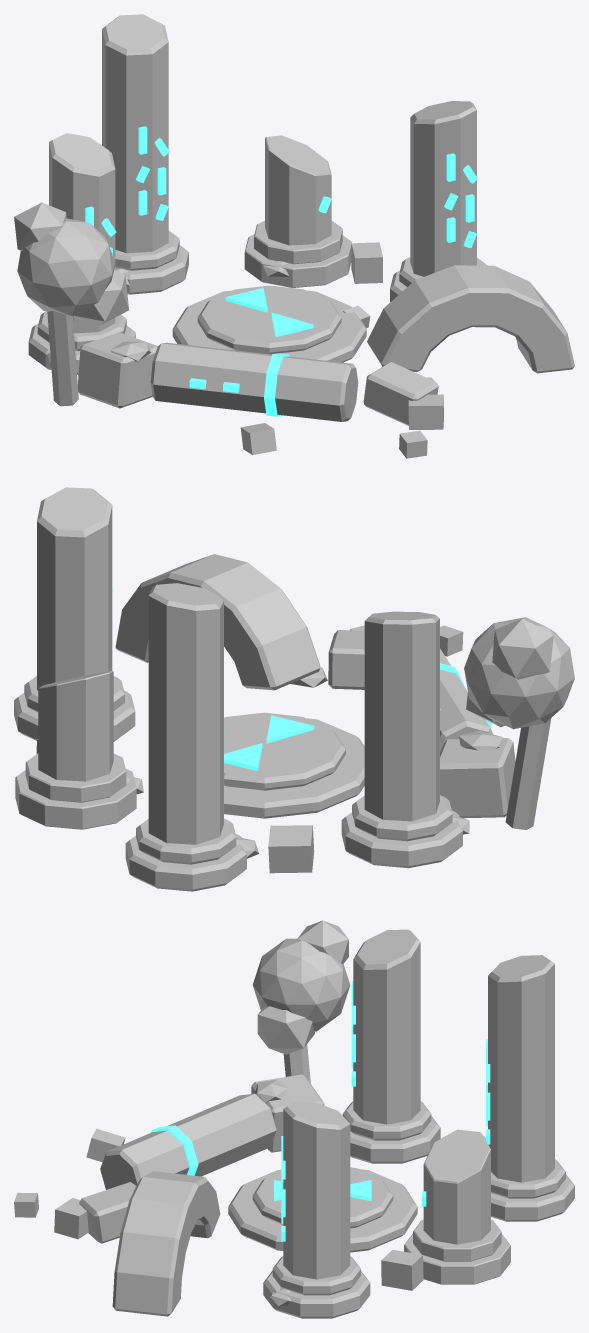
The model's file is d1_prior_ruins.gltf.
The picture shows the model from 3 angles, top to bottom: view 1: azimuth 30°, elevation 25°; view 2: azimuth 150°, elevation 25°; view 3: azimuth 270°, elevation 25°; orthographic projection. The views are drawn at different scales.
Visible parts, largest first — view 1: col_back, arch_broken, col_fallen, col_right, col_short, dais, tree_canopy, col_left, rubble, col_fallen_base, arch_fallen_block, tree_trunk (+1 smaller); view 2: col_back, col_left, col_right, col_short, dais, arch_broken, tree_canopy, col_fallen_base, tree_trunk, rubble, col_fallen, arch_fallen_block (+1 smaller); view 3: col_back, col_left, col_right, col_short, arch_broken, tree_canopy, col_fallen, dais, rubble, arch_fallen_block, col_fallen_base, moss_tufts (+1 smaller).
Boxes of the visible parts, <box> form: col_back: <box>102,14,188,294</box>; arch_broken: <box>367,265,574,373</box>; col_fallen: <box>150,342,358,421</box>; col_right: <box>390,101,487,301</box>; col_short: <box>244,135,351,287</box>; dais: <box>172,285,366,362</box>; tree_canopy: <box>14,202,128,325</box>; col_left: <box>28,133,135,374</box>; rubble: <box>240,242,443,458</box>; col_fallen_base: <box>77,332,157,408</box>; arch_fallen_block: <box>363,362,438,425</box>; tree_trunk: <box>47,311,78,406</box>; col_back: <box>125,583,246,891</box>; col_left: <box>341,611,462,868</box>; col_right: <box>14,487,135,741</box>; col_short: <box>15,670,136,829</box>; dais: <box>224,712,364,818</box>; arch_broken: <box>115,554,320,690</box>; tree_canopy: <box>464,617,574,729</box>; col_fallen_base: <box>440,738,515,818</box>; tree_trunk: <box>505,718,551,829</box>; rubble: <box>36,625,463,873</box>; col_fallen: <box>440,648,493,751</box>; arch_fallen_block: <box>328,630,364,689</box>; col_back: <box>486,955,574,1221</box>; col_left: <box>342,929,440,1163</box>; col_right: <box>263,1101,370,1318</box>; col_short: <box>404,1129,510,1284</box>; arch_broken: <box>112,1171,220,1316</box>; tree_canopy: <box>252,920,350,1054</box>; col_fallen: <box>100,1093,276,1189</box>; dais: <box>228,1167,417,1252</box>; rubble: <box>14,1128,485,1290</box>; arch_fallen_block: <box>79,1182,136,1243</box>; col_fallen_base: <box>251,1074,324,1152</box>; moss_tufts: <box>255,1079,290,1306</box>.
Size of the model in its own units: 1.74 by 0.8817 by 1.84.
